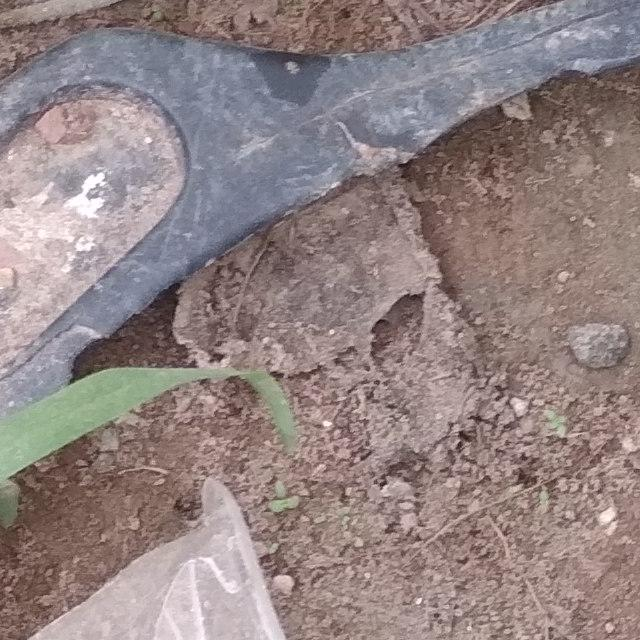plastic: (0, 436, 538, 640)
